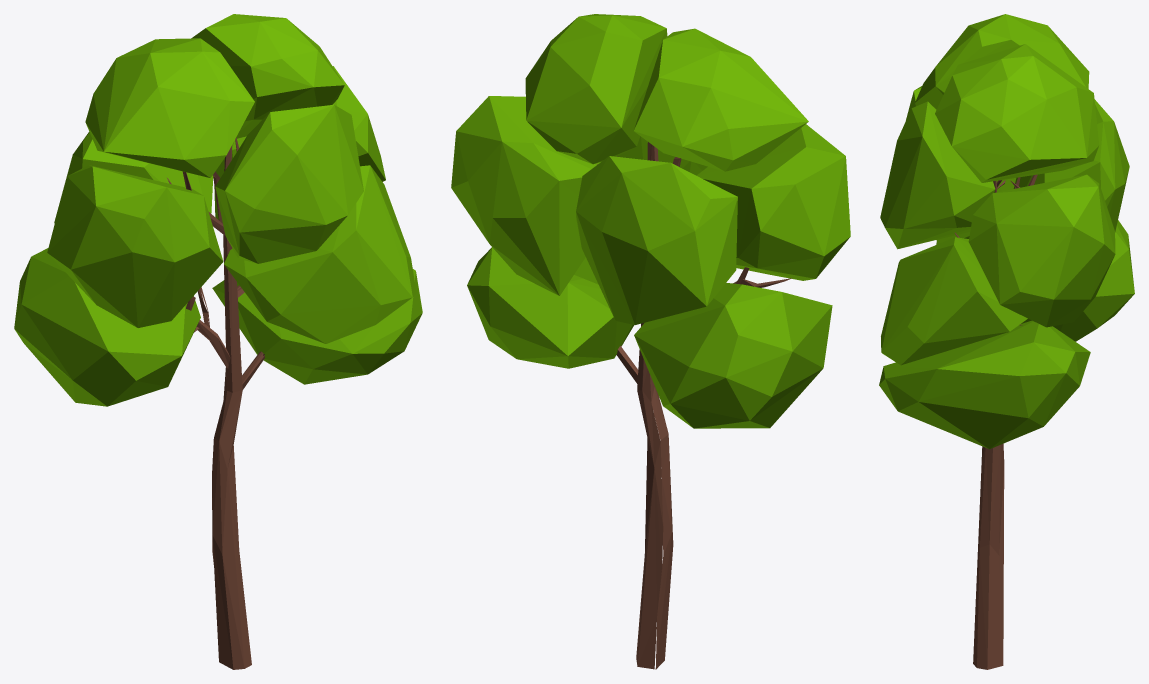
Rendered from estilizada-NormalTree_1.glb.
The picture shows the model from 3 angles, left to right: view 1: azimuth 30°, elevation 25°; view 2: azimuth 150°, elevation 25°; view 3: azimuth 270°, elevation 25°; orthographic projection. The views are drawn at different scales.
Visible parts, largest first — view 1: NormalTree_1.001; view 2: NormalTree_1.001; view 3: NormalTree_1.001.
Part boxes in pixels (bbox=[...]): NormalTree_1.001: bbox=[14, 14, 422, 669]; NormalTree_1.001: bbox=[451, 14, 850, 669]; NormalTree_1.001: bbox=[879, 14, 1134, 669].
Bounding box in the file's own units: 3.87 × 6.81 × 2.55.
